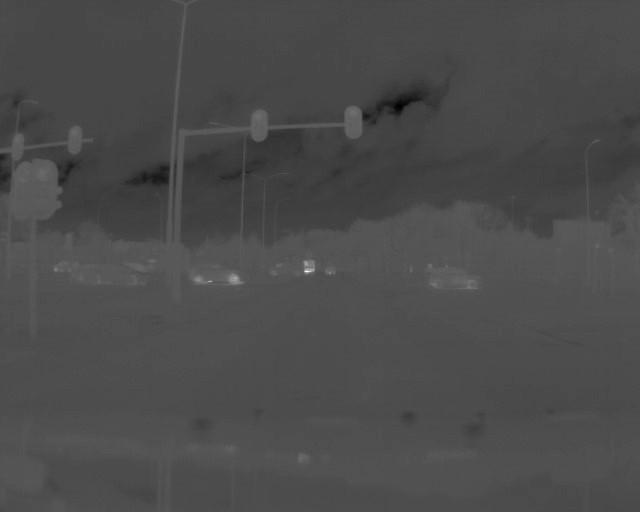car: (84, 261, 158, 290), (188, 258, 249, 286), (427, 264, 484, 292)
